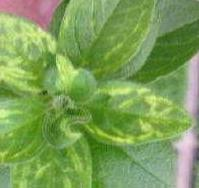Tomato leaf mosaic virus: (53, 0, 154, 77), (79, 83, 195, 148), (11, 112, 94, 188), (0, 93, 56, 166)
